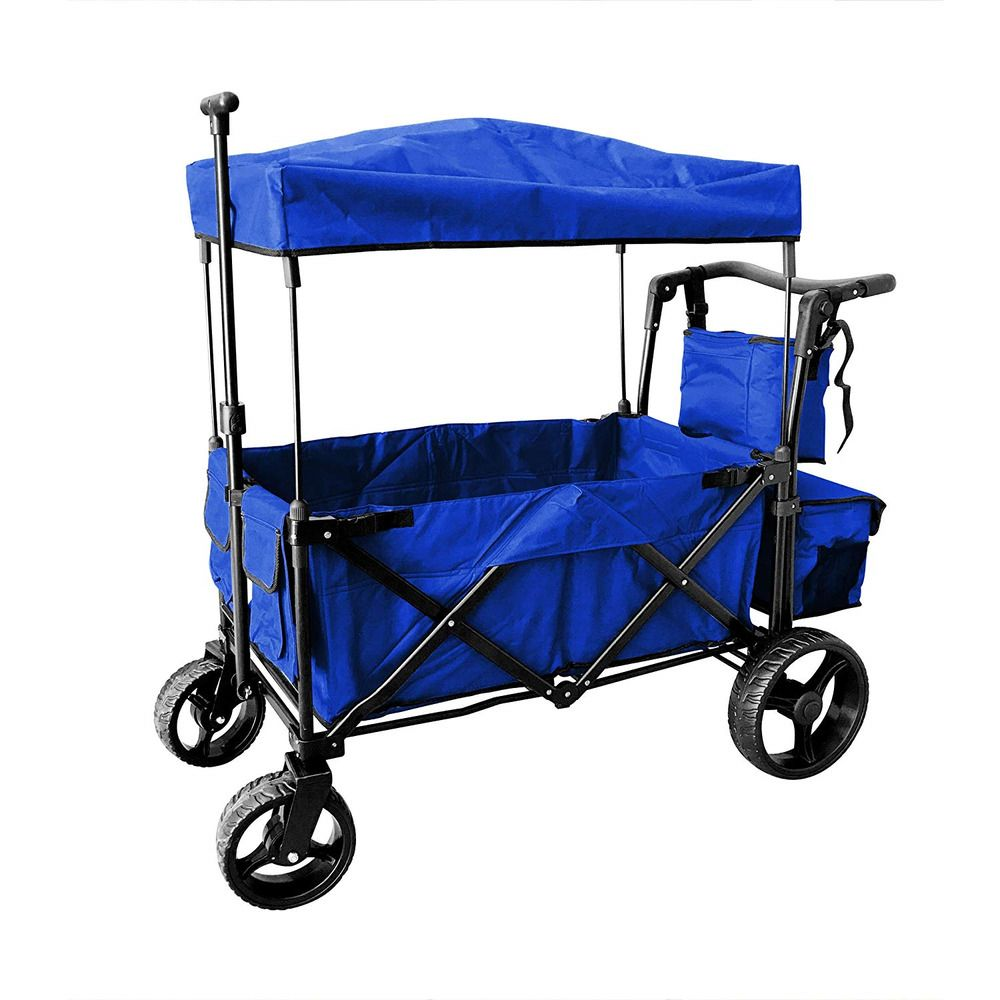Carts: (155, 90, 892, 912)
